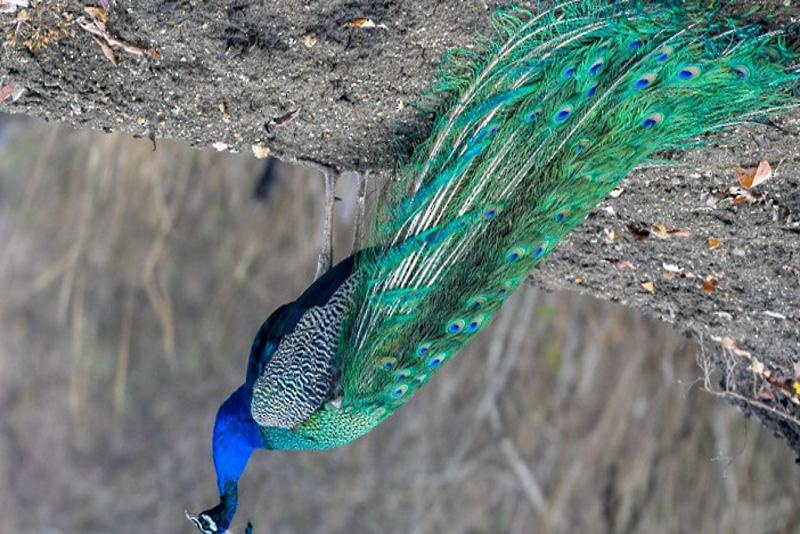peacock: (162, 5, 782, 530)
